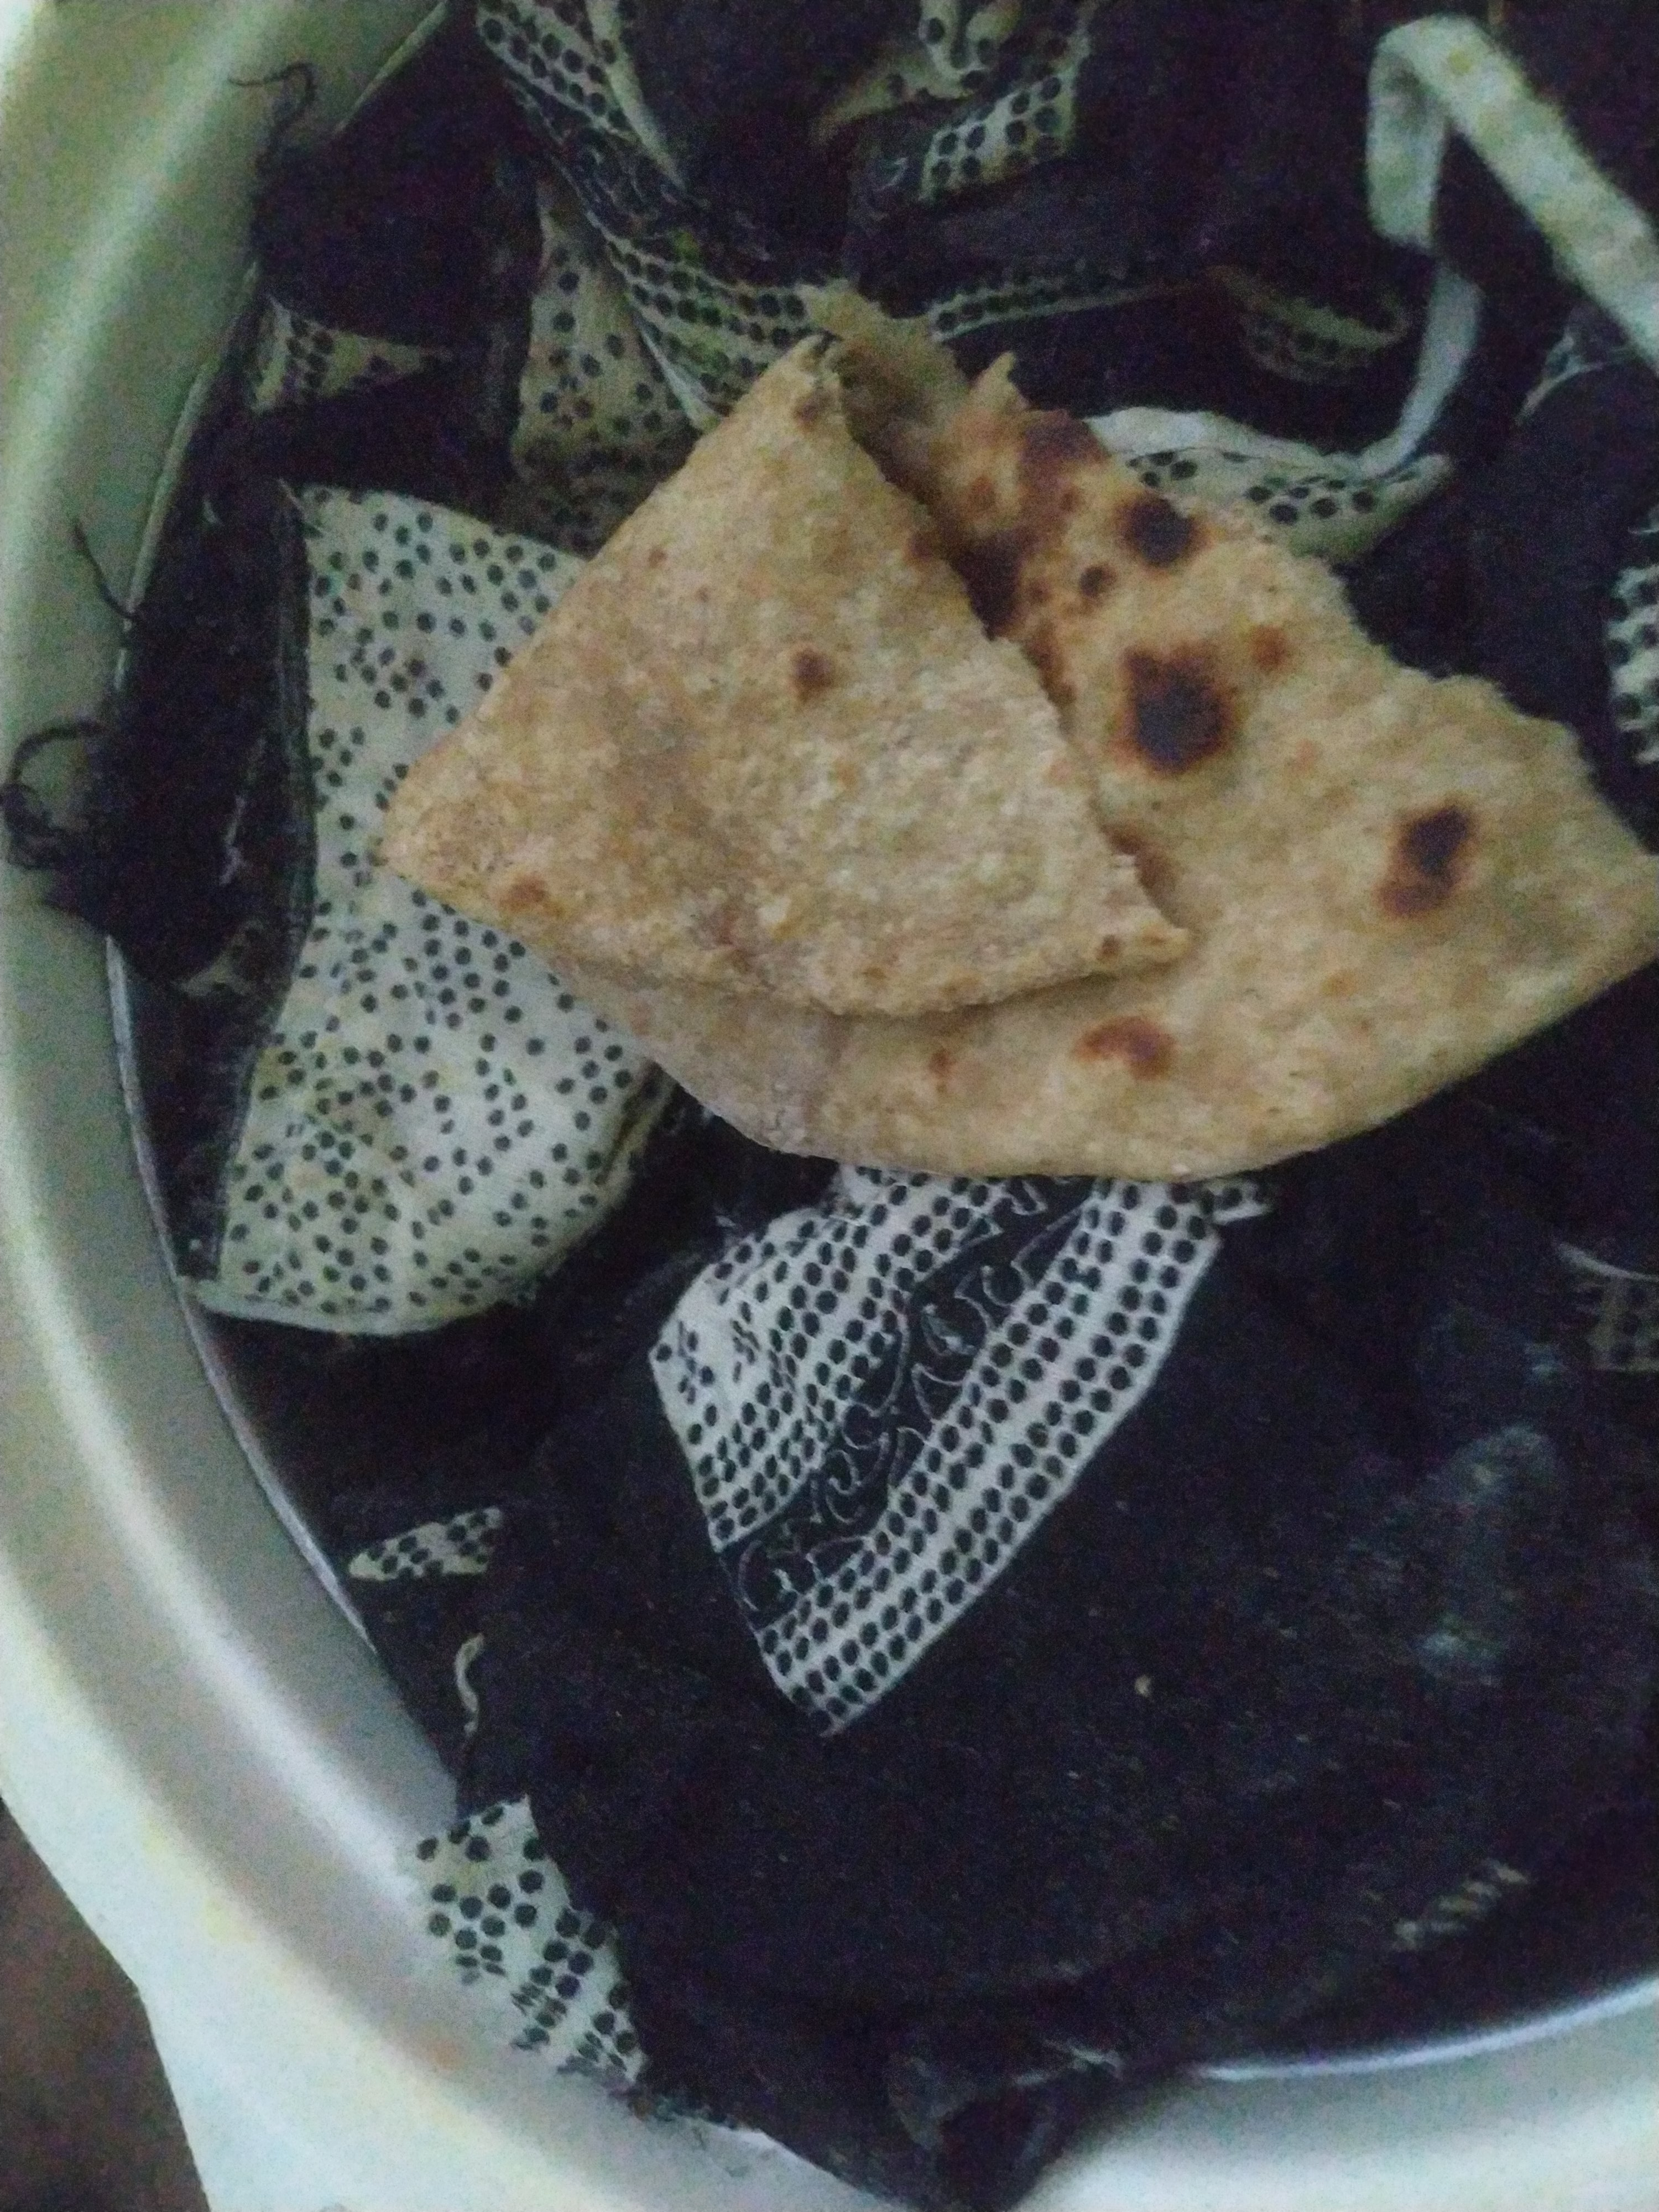food: (371, 265, 1659, 1193)
